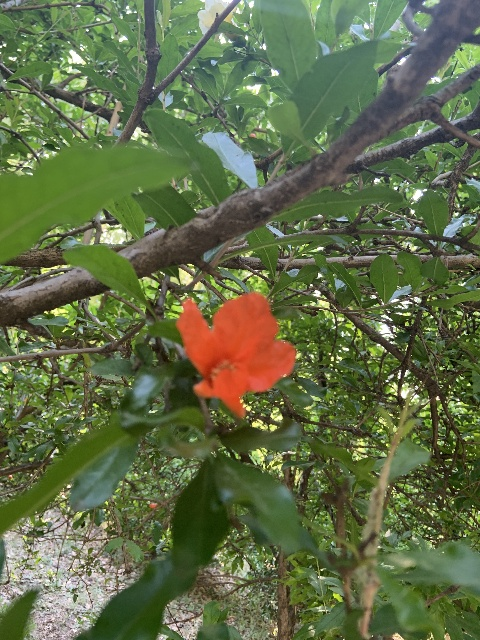flower: (175, 292, 296, 419)
